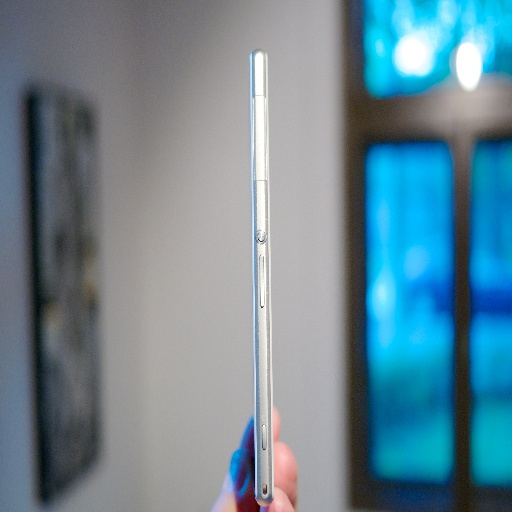hand: (210, 405, 297, 511)
